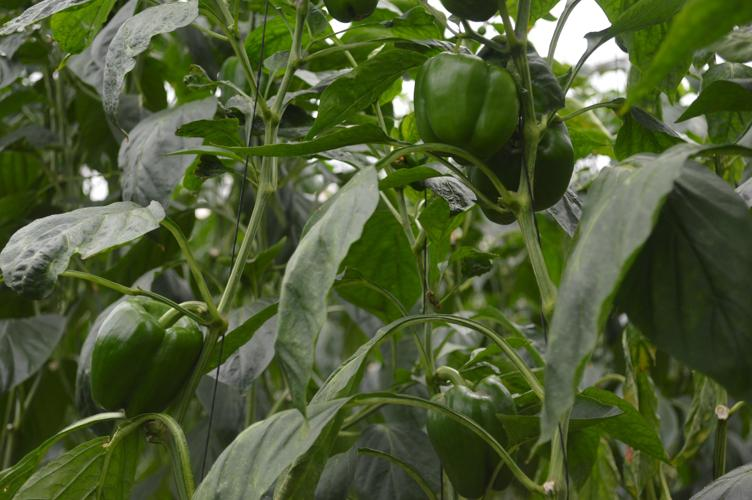BellPepper: (75, 296, 290, 435), (423, 372, 550, 498), (407, 49, 515, 176), (473, 121, 588, 227)
